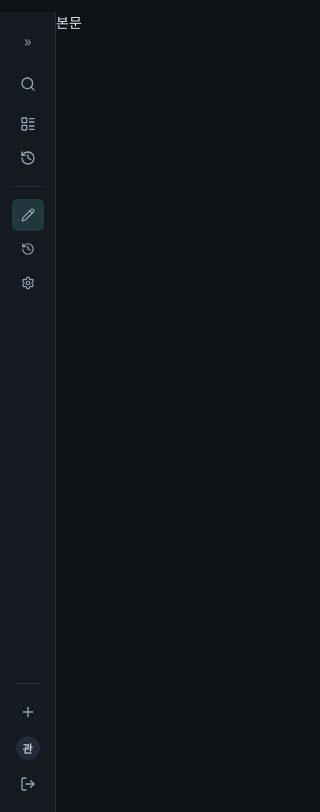
접기 › 에디터에서 접힌 채 시작하고, 펼치면 그 선택을 쿠키에 남긴다
Check: the field labelled "워크플로우 찾기" is not shown
What coordinates should you click on to do the following:
click the button named "사이드바 펼치기"
I would click on:
 (28, 40)
Its box is [12, 24, 44, 56].
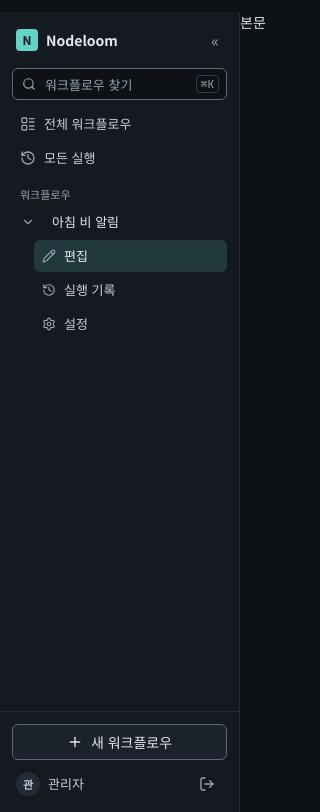
Check: the button named "사이드바 접기" is shown, box [199, 24, 231, 56]
